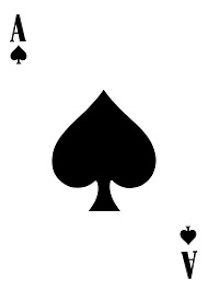AceOfSpades: (2, 2, 208, 286)
